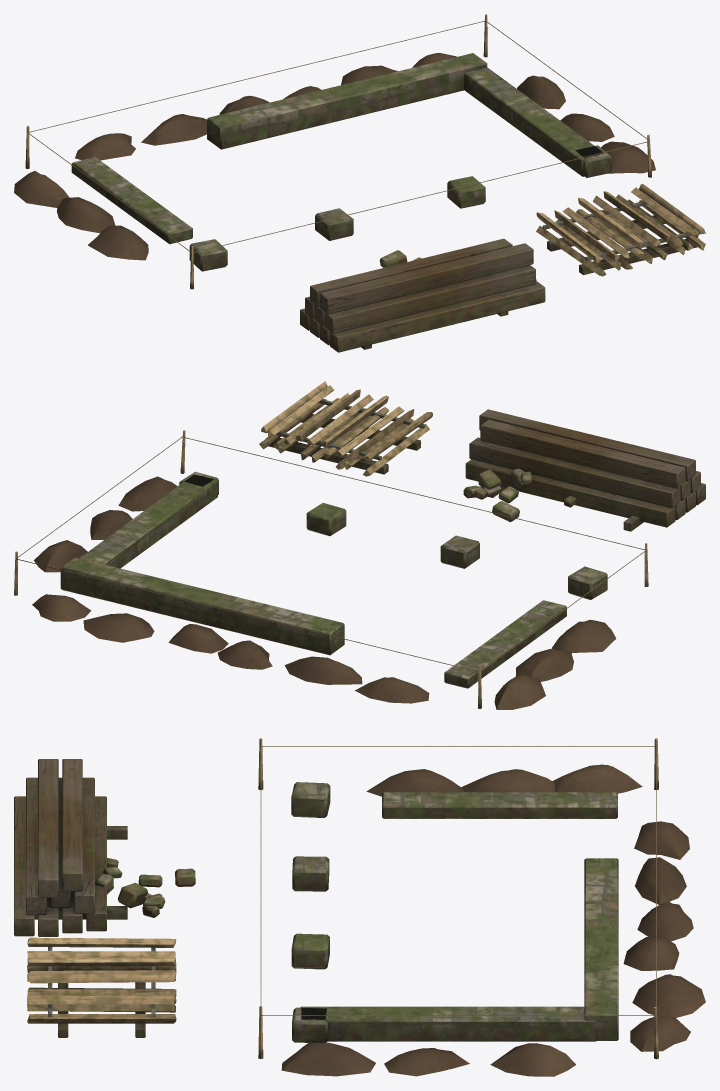
The model's file is fletcher_build1.glb.
3 views of the same model, one above another, from view 1: azimuth 30°, elevation 25°; view 2: azimuth 150°, elevation 25°; view 3: azimuth 270°, elevation 25° (orthographic). The views are drawn at different scales.
Visible parts, largest first — view 1: fletcher_build1_LOD0; view 2: fletcher_build1_LOD0; view 3: fletcher_build1_LOD0.
Boxes of the visible parts, box(x1,y1,x2,y2) form: fletcher_build1_LOD0: box(14, 14, 705, 352); fletcher_build1_LOD0: box(14, 381, 705, 709); fletcher_build1_LOD0: box(14, 738, 705, 1076).
Size of what is drawn, in the model's own units: 8.34 by 0.78 by 8.04.
1 material, 1 textured.
